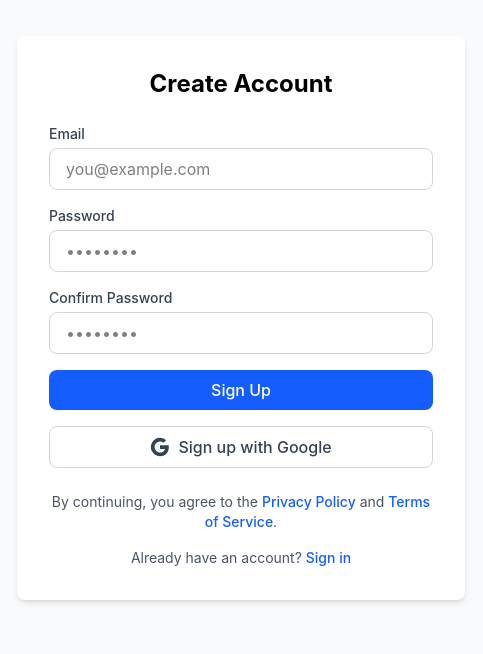
Test: Signup › shows error when password is less than 6 characters
The image size is (483, 654).
Type "a@b.com" into the field labelled "Email" at point(241, 169), box [49,148,433,190]
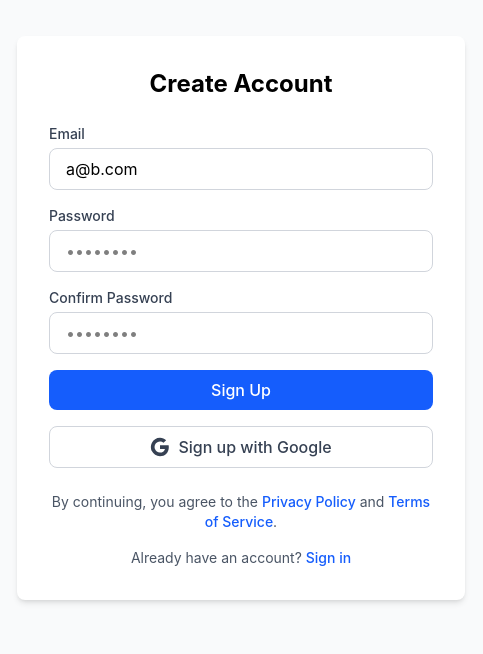
Type "12345" into the password field labelled "Password" at point(241, 251), box [49,230,433,272]
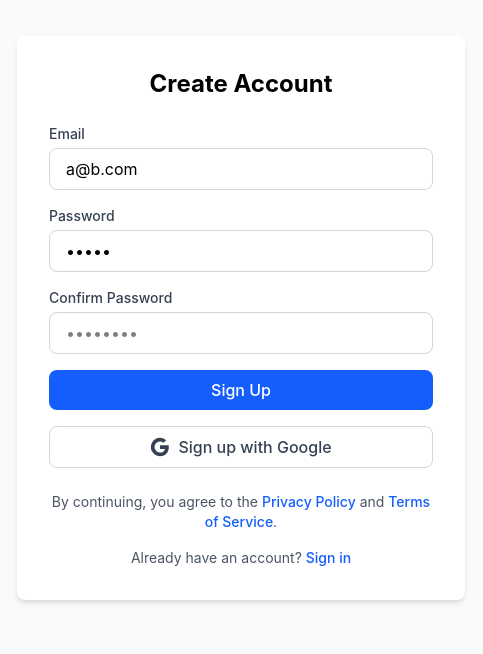
Type "12345" into the password field labelled "Confirm Password" at point(241, 333), box [49,312,433,354]
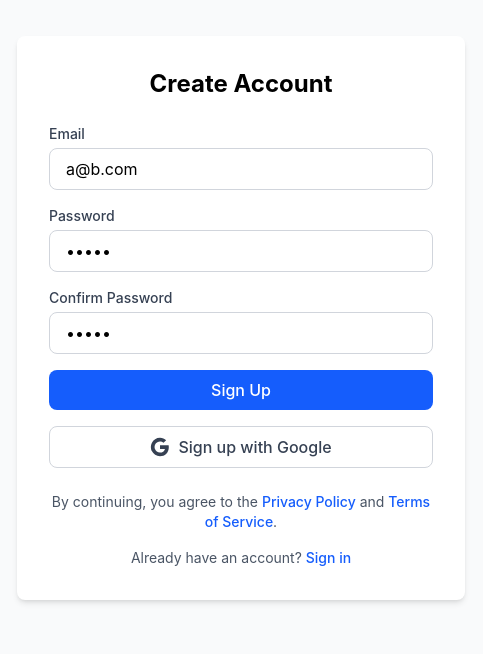
Click the button "Sign Up" at point(241, 390), box [49,370,433,410]
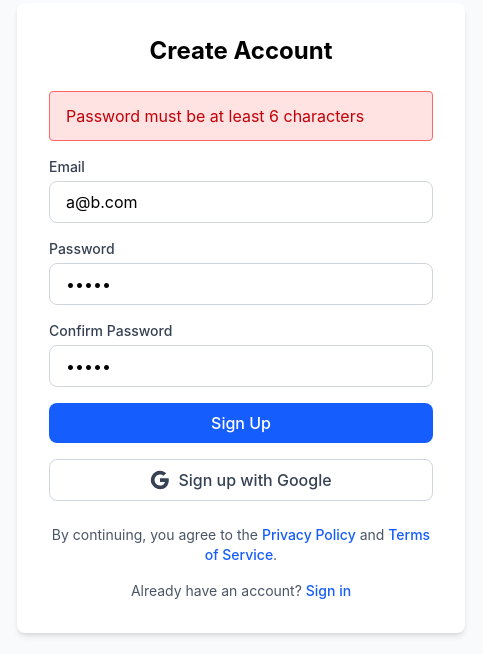
Result: the text "Password must be at least 6 characters" is shown at [49,91,433,141]
